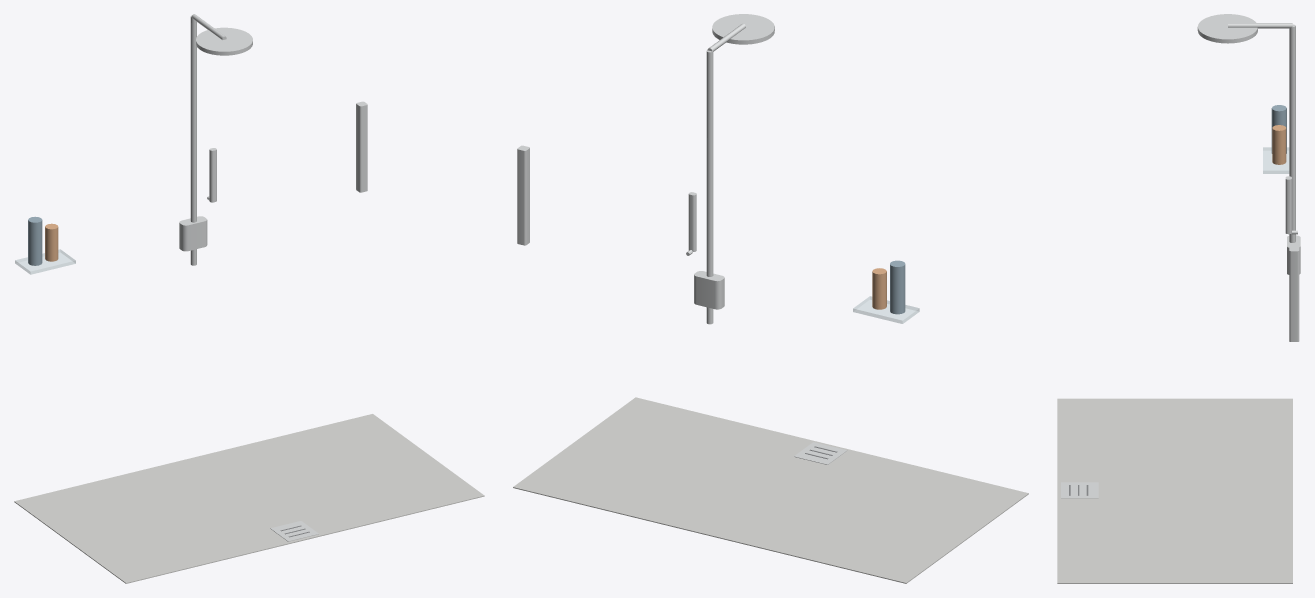
The picture shows the model from 3 angles, left to right: view 1: azimuth 30°, elevation 25°; view 2: azimuth 150°, elevation 25°; view 3: azimuth 270°, elevation 25°; orthographic projection. The views are drawn at different scales.
Visible parts, largest first — view 1: Sen tắm Rộng=1800; Sâu=1000; view 2: Sen tắm Rộng=1800; Sâu=1000; view 3: Sen tắm Rộng=1800; Sâu=1000.
Part boxes in pixels (x1=…): Sen tắm Rộng=1800; Sâu=1000: x1=14, y1=14, x2=484, y2=583; Sen tắm Rộng=1800; Sâu=1000: x1=513, y1=14, x2=1028, y2=583; Sen tắm Rộng=1800; Sâu=1000: x1=1057, y1=14, x2=1300, y2=583.
Bounding box in the file's own units: 1.74 × 2.06 × 0.97.
